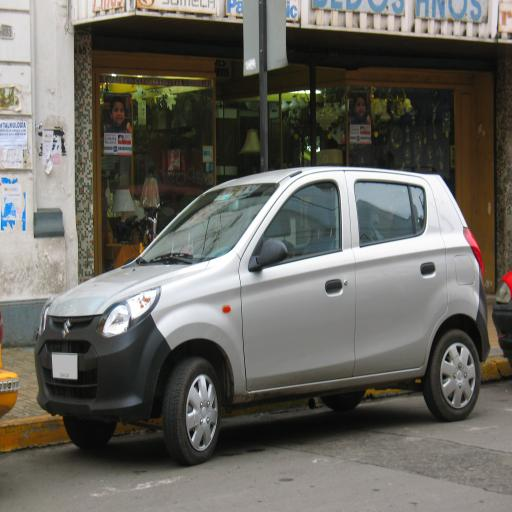License: (50, 352, 82, 382)
